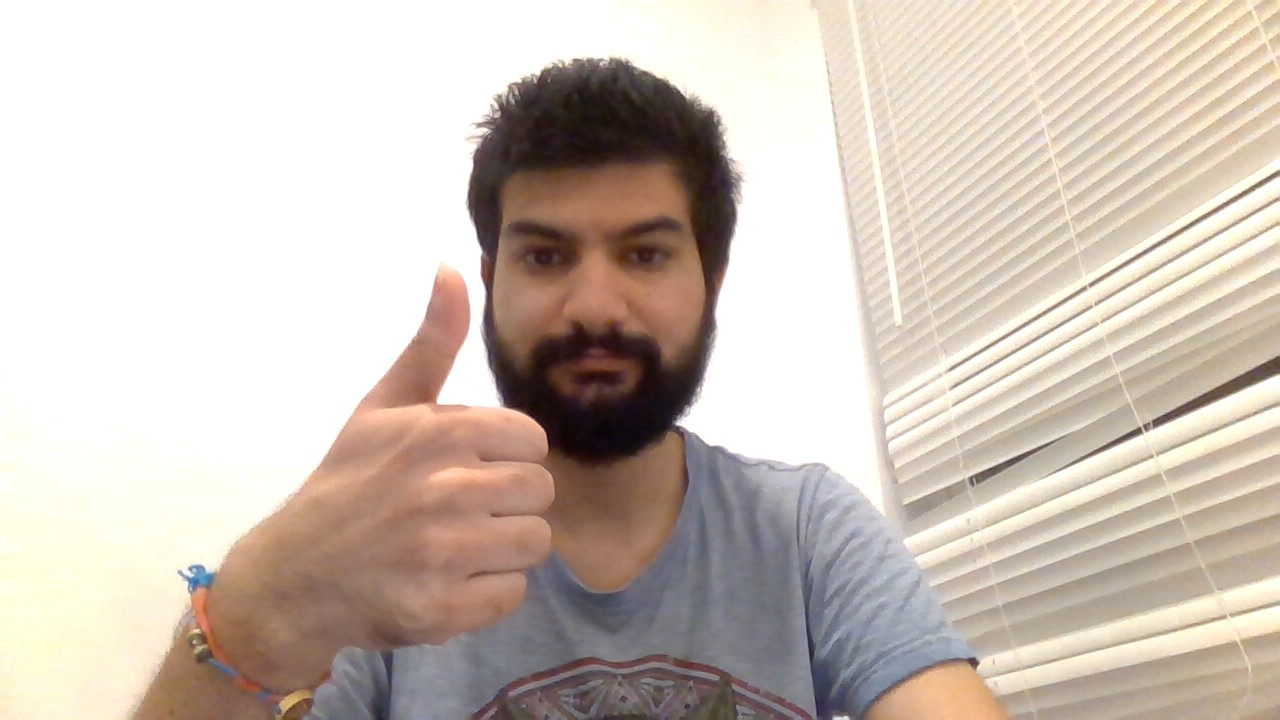up: (328, 251, 572, 647)
